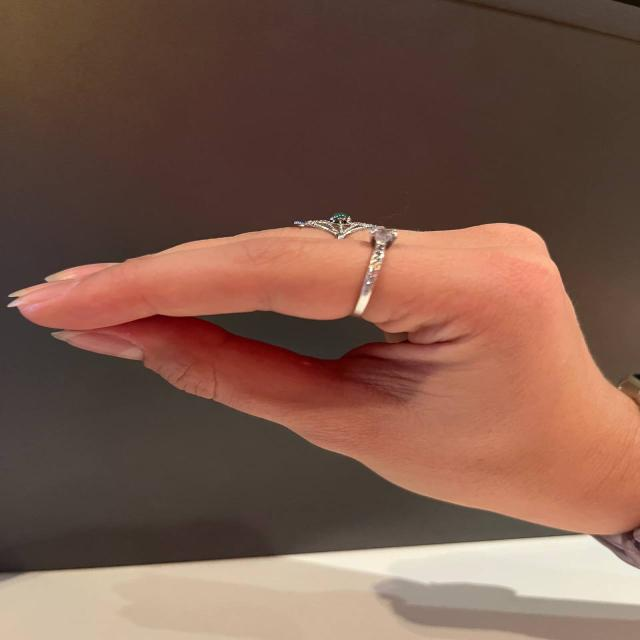zh: (11, 203, 631, 522)
